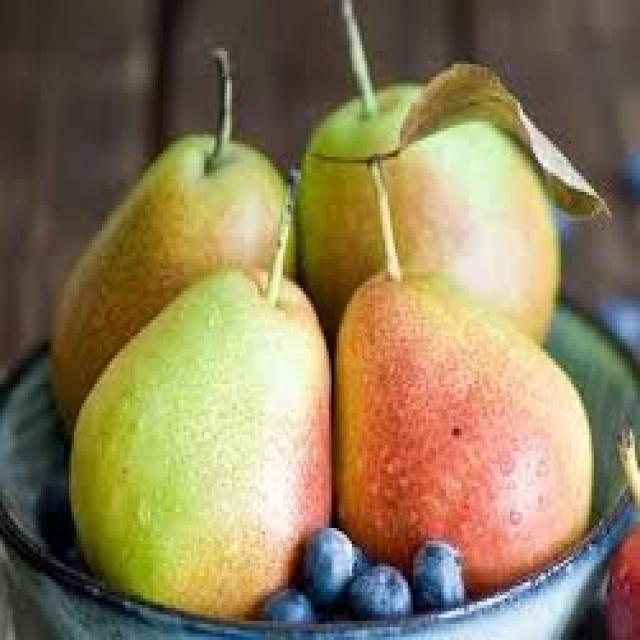organic waste: (64, 262, 331, 614), (334, 266, 589, 576), (48, 128, 290, 432), (296, 77, 556, 349), (592, 522, 638, 636), (408, 534, 464, 608), (352, 560, 410, 630), (301, 528, 349, 611), (260, 586, 314, 634), (347, 544, 367, 573)
